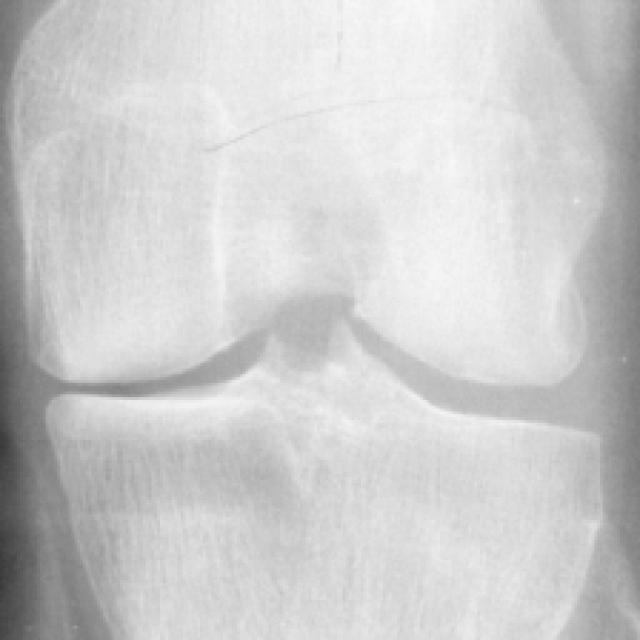femur: (5, 0, 606, 386)
tibia: (51, 320, 597, 637)
